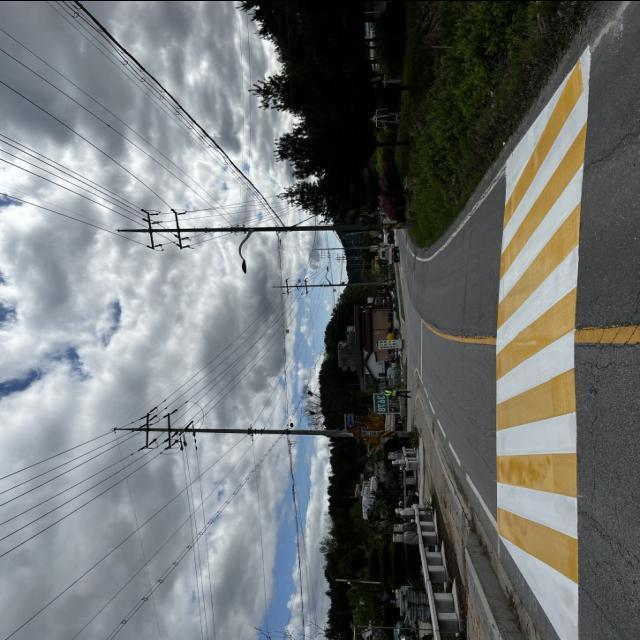speedbreaker: (492, 61, 594, 640)
